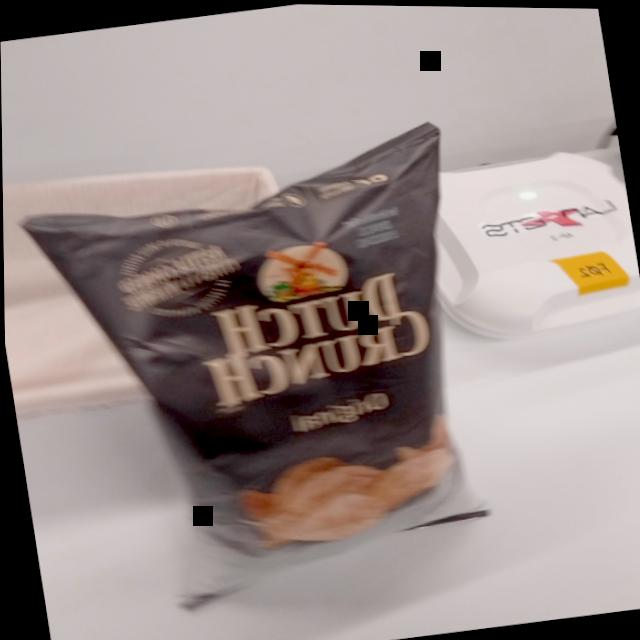potato_chips: (2, 106, 530, 640)
